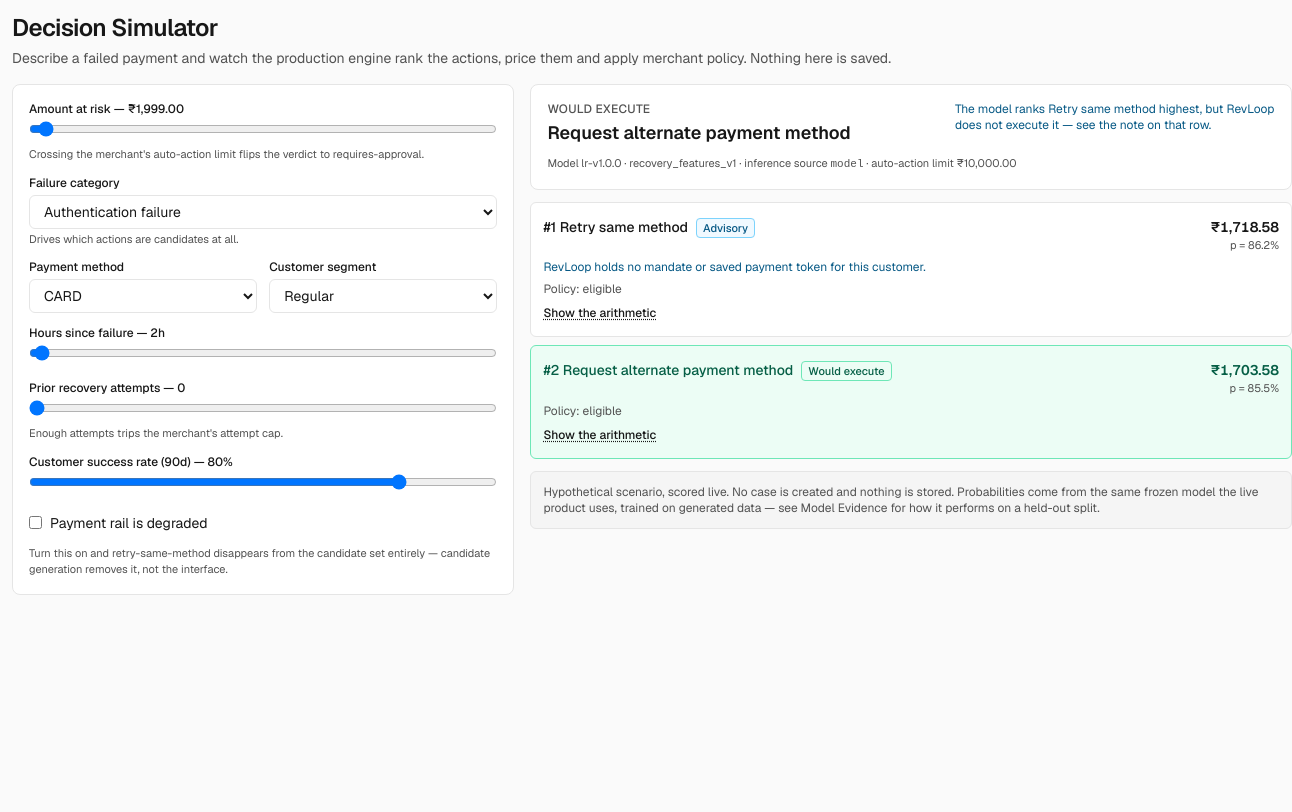
Test: SimulatorClient › reveals the ERV arithmetic on demand
What coordinates should you click on to do the following:
click the button "Show the arithmetic" below "Advisory"
I would click on:
 (600, 313)
Its box is 543,305 -> 656,321.
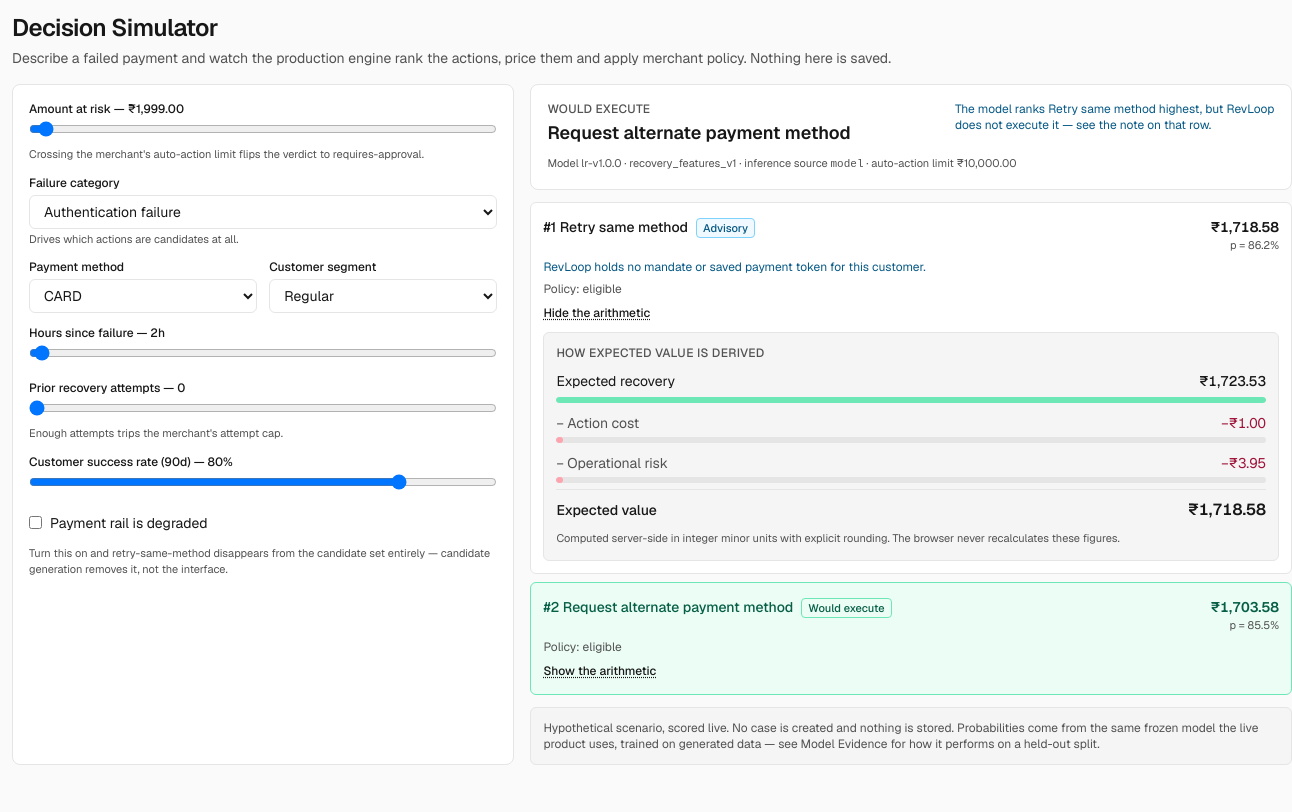
Expected: the text "How expected value is derived" is shown, 556,345 -> 765,361
Expected: the text "− Action cost" is shown, 556,413 -> 639,433
